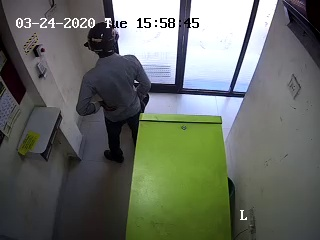helmet: (81, 23, 124, 62)
